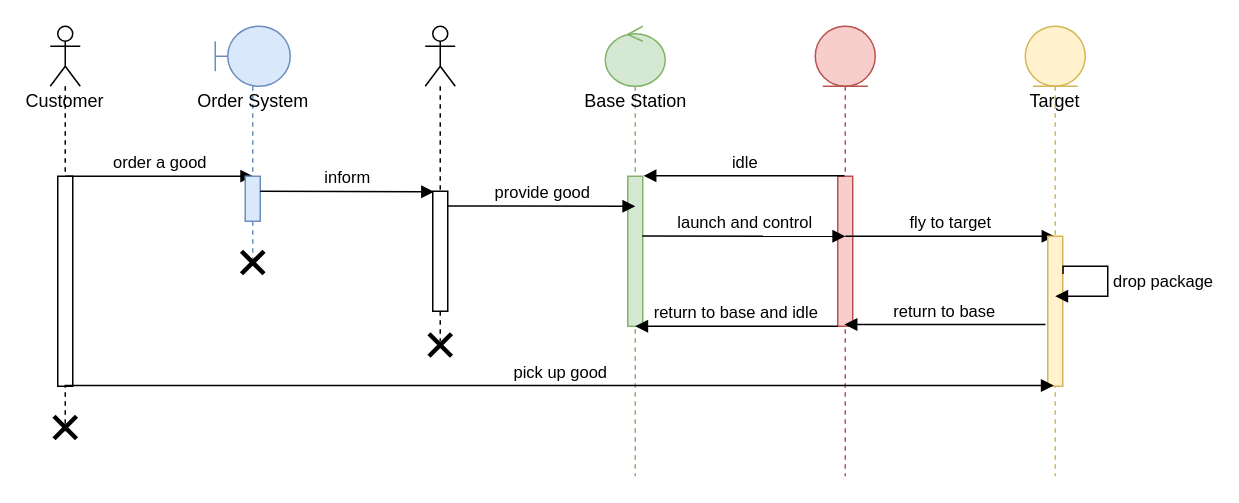
The diagram is 1239 pixels wide and 503 high, and some of its shapes have lost their labels. The shapes that lost their labels are listed below. From the top down, each one's centre as x and y in pixels, then its label:
(439,183): Provider
(844,250): Drone
